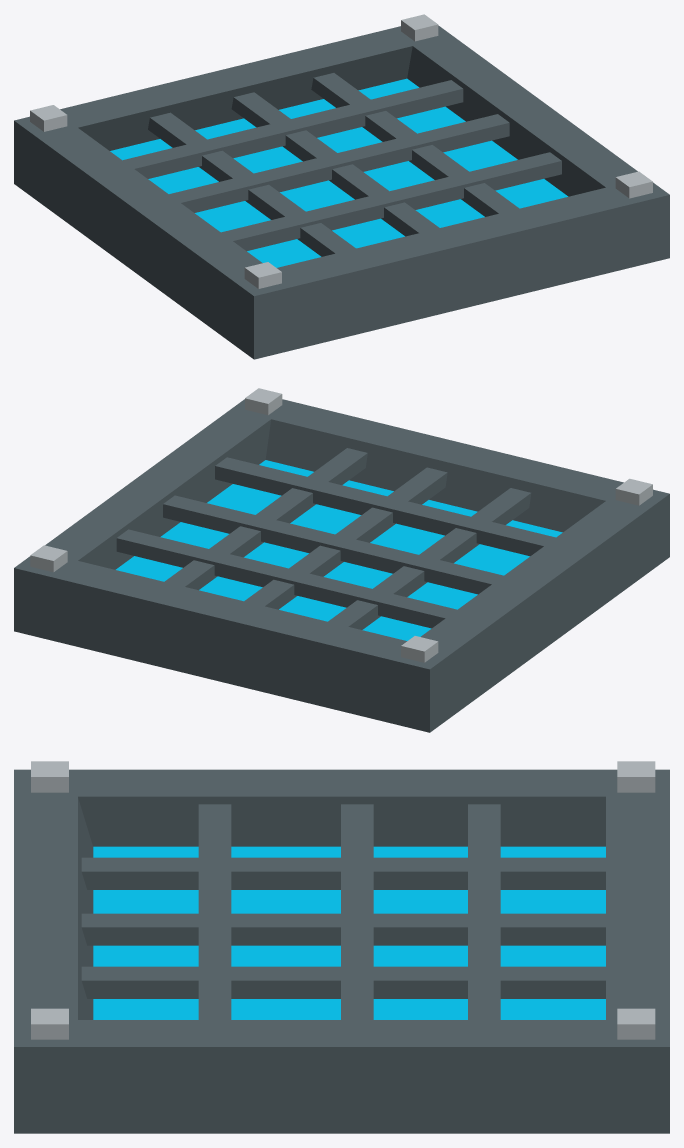
The model's file is Sewer 01.FBX.
3 views of the same model, one above another, from view 1: azimuth 30°, elevation 25°; view 2: azimuth 150°, elevation 25°; view 3: azimuth 270°, elevation 25° (orthographic). The views are drawn at different scales.
Parts seen in each view (by area): view 1: Sewer 01; view 2: Sewer 01; view 3: Sewer 01.
Part boxes in pixels (box(x1,y1,x2,y2)): Sewer 01: box(14, 14, 669, 359); Sewer 01: box(14, 388, 669, 732); Sewer 01: box(14, 761, 669, 1133).
Bounding box in the file's own units: 97.83 × 16.79 × 97.83.
